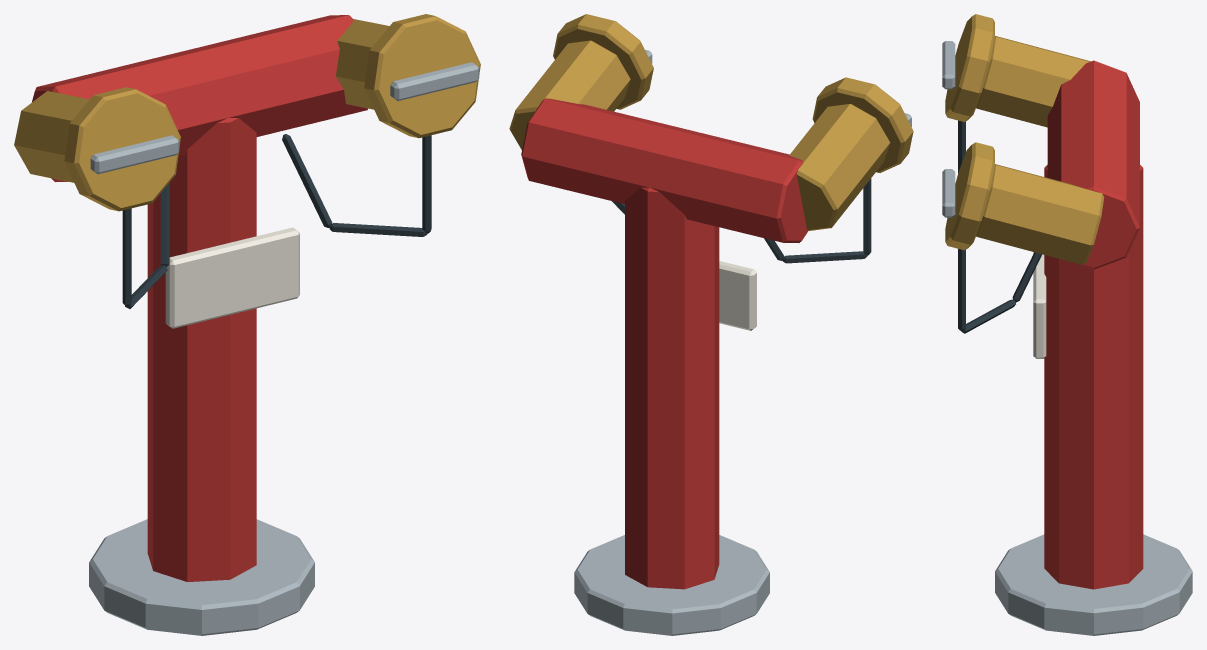
The model's file is b05_siamese_fire_department_connection.glb.
The picture shows the model from 3 angles, left to right: view 1: azimuth 30°, elevation 25°; view 2: azimuth 150°, elevation 25°; view 3: azimuth 270°, elevation 25°; orthographic projection. The views are drawn at different scales.
Visible parts, largest first — view 1: b05_siamese_fire_department_connection; view 2: b05_siamese_fire_department_connection; view 3: b05_siamese_fire_department_connection.
Part boxes in pixels (left/top/right/bottom): b05_siamese_fire_department_connection: left=14, top=14, right=480, bottom=635; b05_siamese_fire_department_connection: left=509, top=14, right=913, bottom=635; b05_siamese_fire_department_connection: left=942, top=14, right=1192, bottom=635.
Size of the model in its own units: 0.624 by 0.8537 by 0.38.
